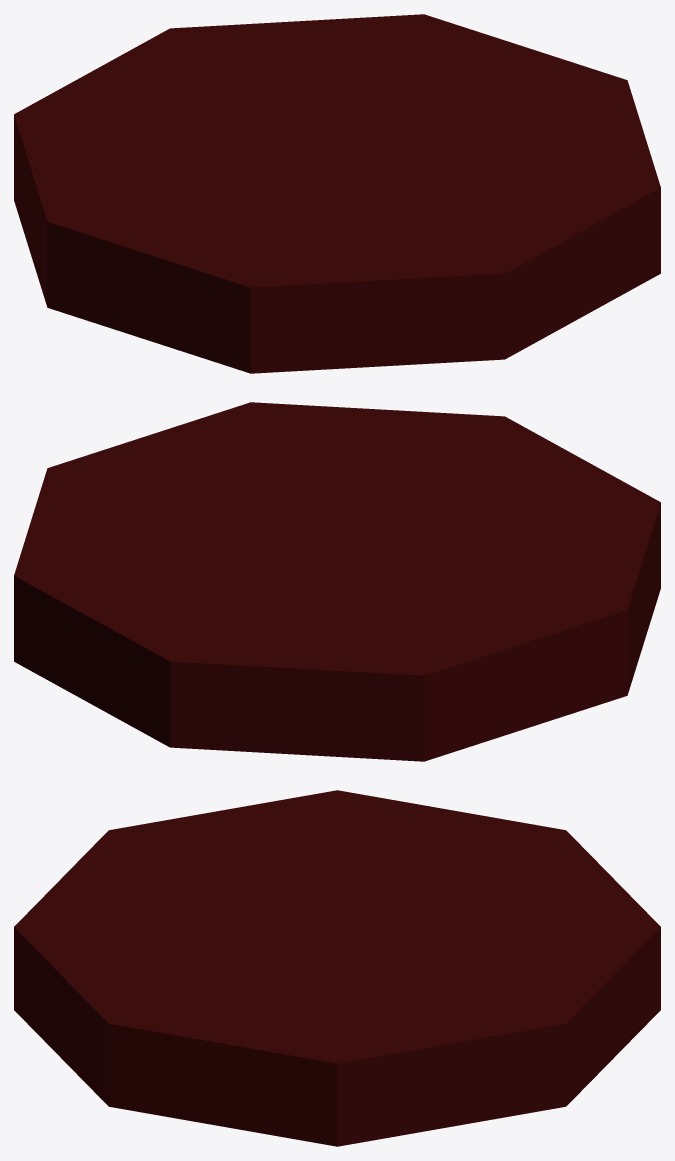
File: Magnet.001.glb
3 views of the same model, one above another, from view 1: azimuth 30°, elevation 25°; view 2: azimuth 150°, elevation 25°; view 3: azimuth 270°, elevation 25° (orthographic). The views are drawn at different scales.
Visible parts, largest first — view 1: Magnet.001; view 2: Magnet.001; view 3: Magnet.001.
Boxes of the visible parts, left/top/right/bottom form: Magnet.001: left=14, top=14, right=660, bottom=373; Magnet.001: left=14, top=402, right=660, bottom=761; Magnet.001: left=14, top=790, right=660, bottom=1146.
Bounding box in the file's own units: 0.2706 × 0.0383 × 0.2706.
